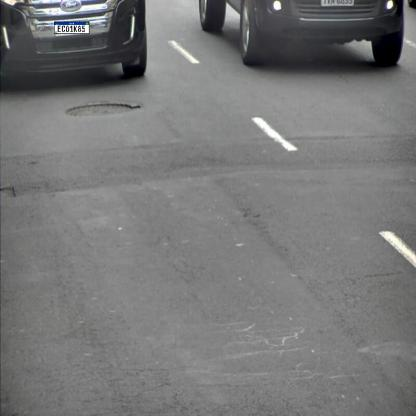PlacaM: (54, 21, 90, 34)
